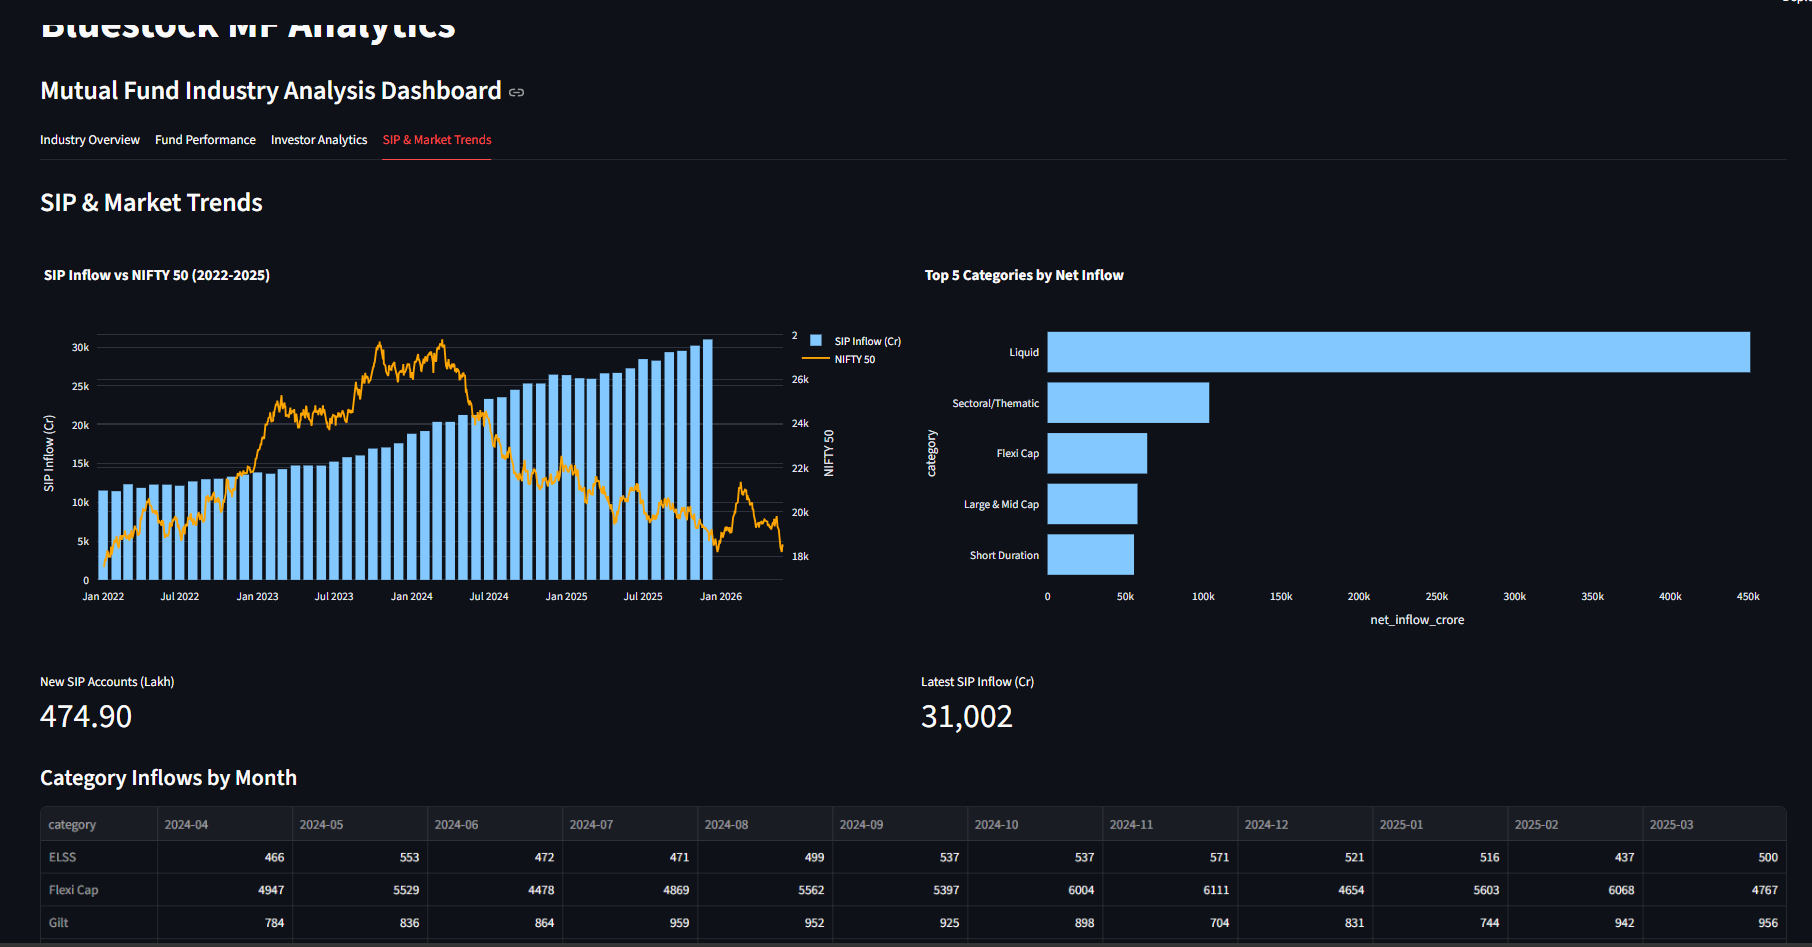

The page's visual inventory and layout, read from the dashboard file:
{"tool":"powerbi","page":{"name":"SIP and Market Trends","canvas":[1280,720],"ordinal":3},"visuals":[{"type":"lineClusteredColumnComboChart","title":"SIP Inflow vs Nifty 50 (2022-2025)","fields":{"Category":["clean_sip_inflows.month"],"Y":["Sum(clean_sip_inflows.sip_inflow_crore)"],"Y2":["Sum(clean_benchmark_indices.close_value)"]},"box":[0,48.6,280,280],"z":0},{"type":"pivotTable","title":"Category Inflows by Month","fields":{"Rows":["clean_category_inflows.category"],"Columns":["clean_category_inflows.month"],"Values":["Sum(clean_category_inflows.net_inflow_crore)"]},"box":[98.6,355.7,414.3,351.4],"z":1},{"type":"clusteredBarChart","title":"Top 5 Categories by Net Inflow FY25","fields":{"Category":["clean_category_inflows.category"],"Y":["Sum(clean_category_inflows.net_inflow_crore)"]},"box":[822,532,400,160],"z":2},{"type":"cardVisual","title":"New SIP Accounts (Lakh)","fields":{"Data":["Sum(clean_sip_inflows.new_sip_accounts_lakh)"]},"box":[898,216,280,280],"z":3},{"type":"textbox","box":[306,44,804,42],"z":4},{"type":"image","box":[1204,0,76,86],"z":5}]}

Visuals, with their boxes on the page's 1280x720 design canvas (x1, y1, x2, y2). These are canvas units, not pixel positions in the 1812x947 screenshot, which may show the page scaled, cropped or inside an application window:
"SIP Inflow vs Nifty 50 (2022-2025)" lineClusteredColumnComboChart: 0,49,280,329
"Category Inflows by Month" pivotTable: 99,356,513,707
"Top 5 Categories by Net Inflow FY25" clusteredBarChart: 822,532,1222,692
"New SIP Accounts (Lakh)" cardVisual: 898,216,1178,496
textbox: 306,44,1110,86
image: 1204,0,1280,86
